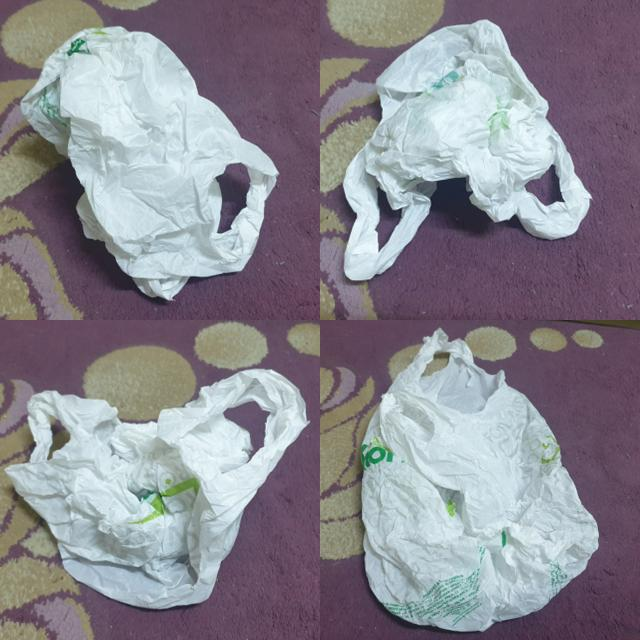Single-layer Plastic: (6, 370, 308, 609), (361, 329, 599, 631), (21, 26, 278, 300), (344, 20, 591, 280)
